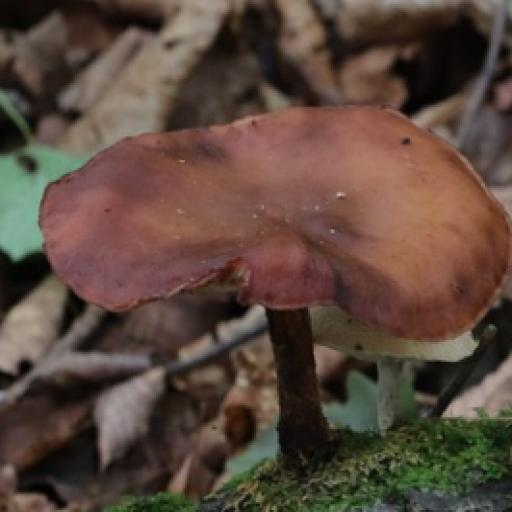Shiitake Mushroom: (12, 0, 512, 509)
